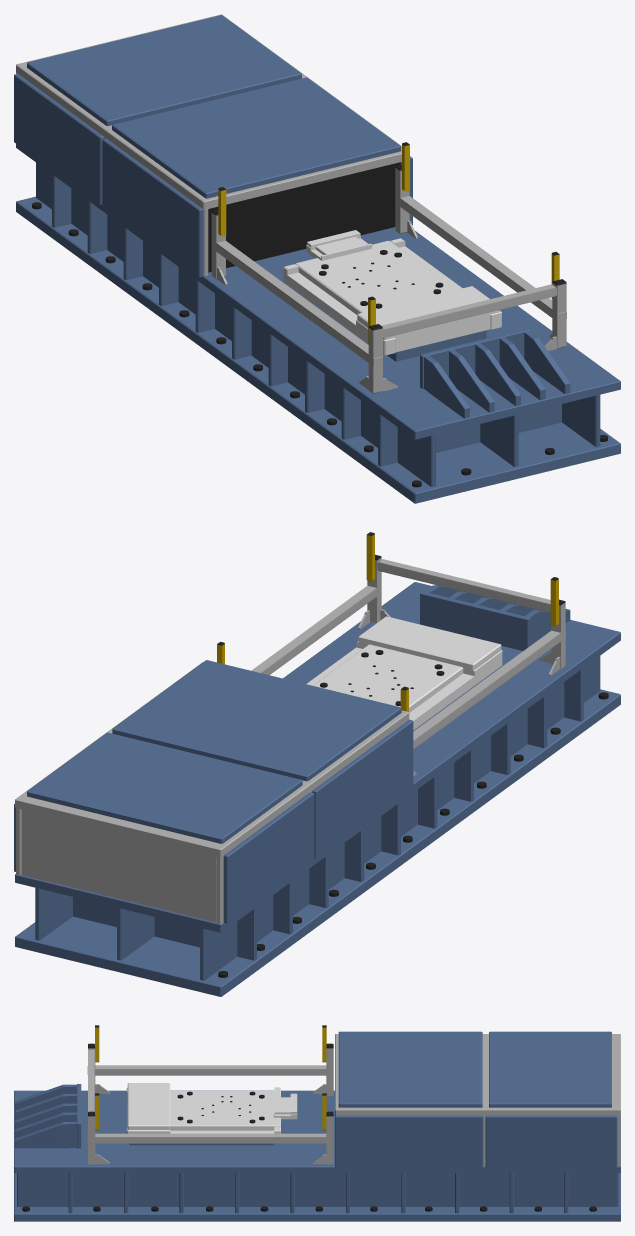
File: SYL1_04.fbx
3 views of the same model, one above another, from view 1: azimuth 30°, elevation 25°; view 2: azimuth 150°, elevation 25°; view 3: azimuth 270°, elevation 25° (orthographic). The views are drawn at different scales.
Visible parts, largest first — view 1: SYL1_04; view 2: SYL1_04; view 3: SYL1_04.
Part boxes in pixels (x1=…): SYL1_04: x1=14, y1=14, x2=620, y2=503; SYL1_04: x1=14, y1=532, x2=620, y2=996; SYL1_04: x1=14, y1=1025, x2=620, y2=1221.
Size of the model in its own units: 181 by 131 by 585.
